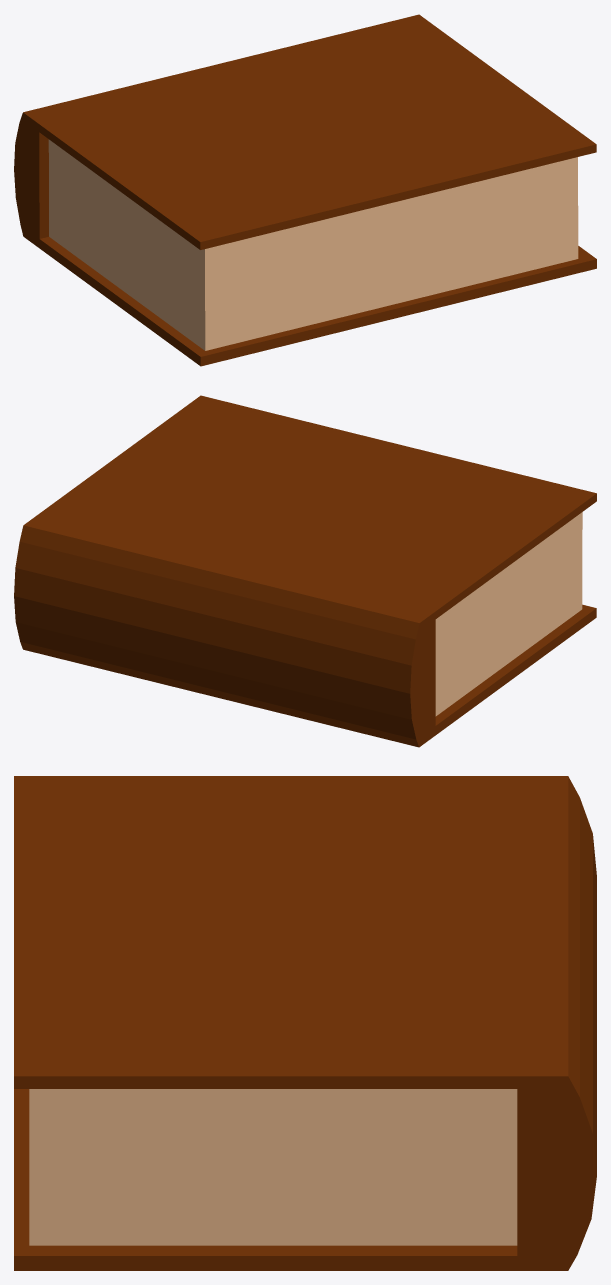
The model's file is Book_Brown.fbx.
3 views of the same model, one above another, from view 1: azimuth 30°, elevation 25°; view 2: azimuth 150°, elevation 25°; view 3: azimuth 270°, elevation 25° (orthographic). The views are drawn at different scales.
Parts seen in each view (by area): view 1: Book_3.006; view 2: Book_3.006; view 3: Book_3.006.
Part boxes in pixels (x1,y1,x2,y2): Book_3.006: [14, 14, 596, 366]; Book_3.006: [14, 395, 596, 747]; Book_3.006: [14, 776, 596, 1270].
Size of the model in its own units: 48.04 by 14.54 by 39.16.
